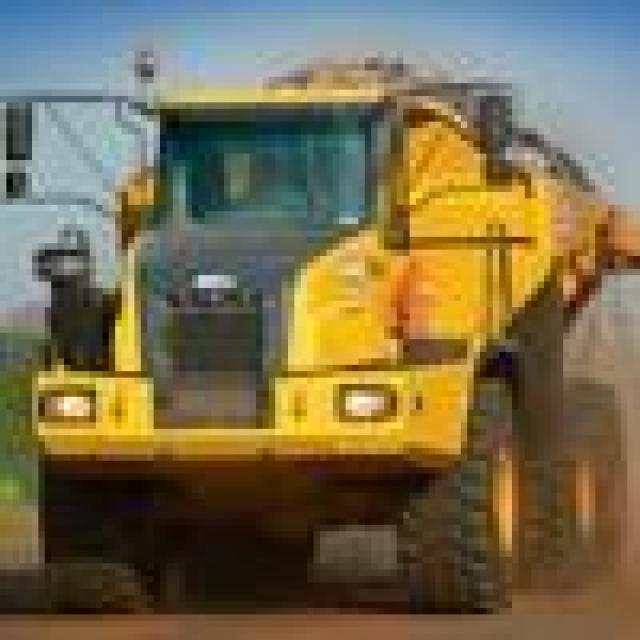dump_truck: (32, 64, 634, 595)
